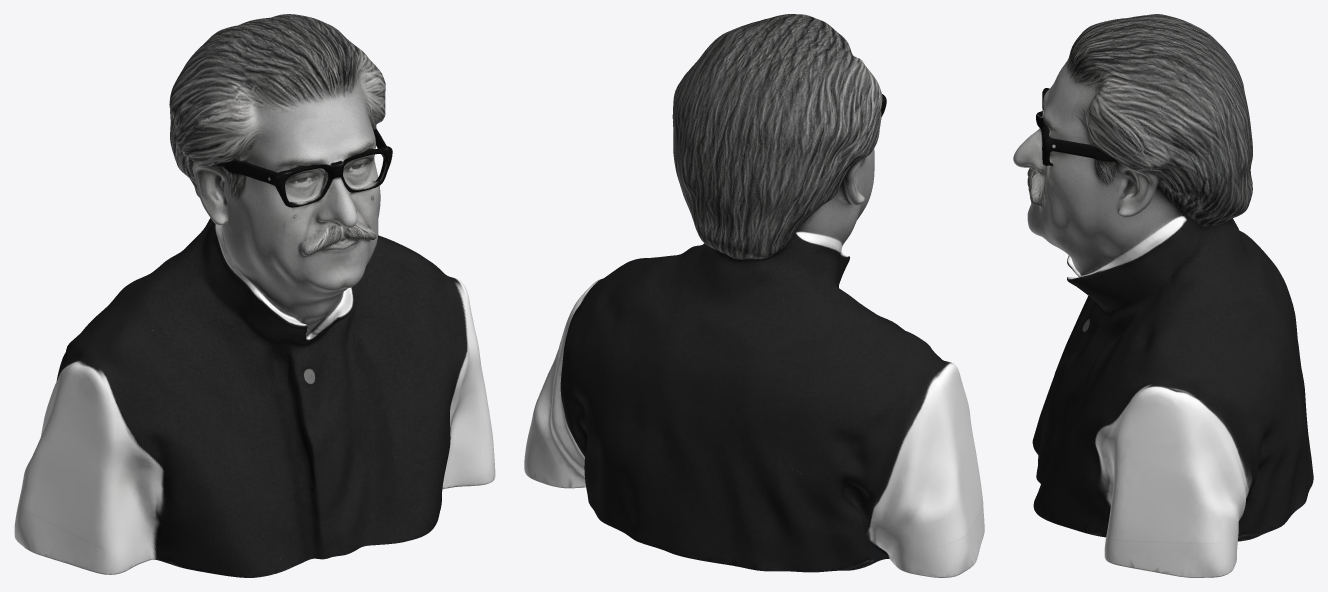
Rendered from mujib-face.glb.
The picture shows the model from 3 angles, left to right: view 1: azimuth 30°, elevation 25°; view 2: azimuth 150°, elevation 25°; view 3: azimuth 270°, elevation 25°; orthographic projection. The views are drawn at different scales.
Size of the model in its own units: 1.86 by 1.9 by 1.14.
Materials: 1 (1 with a texture image).
